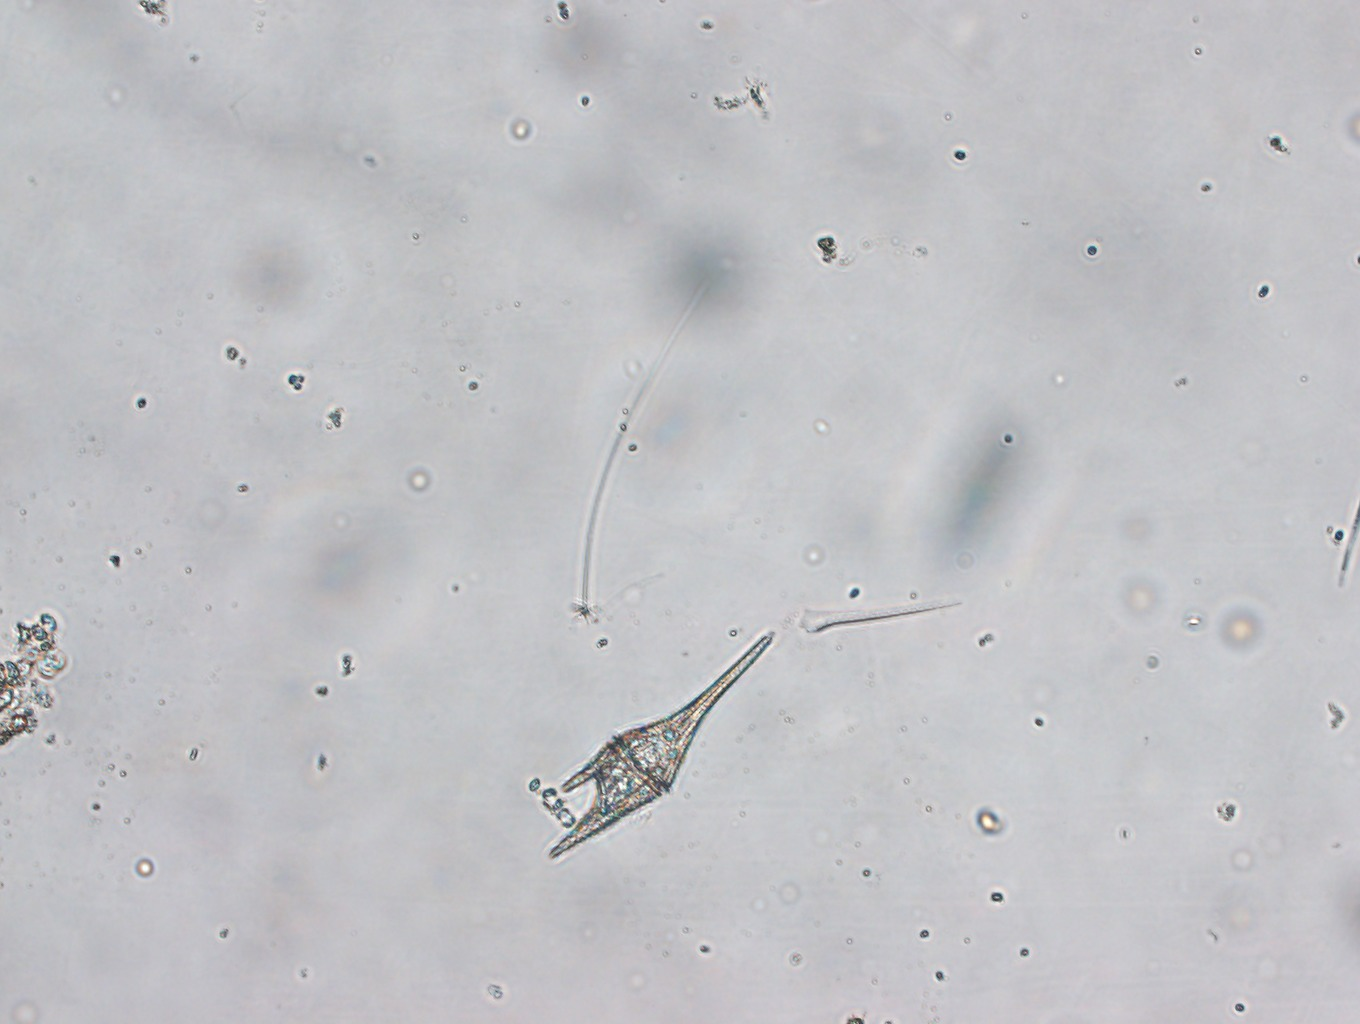ceratium furca: (546, 630, 783, 870)
